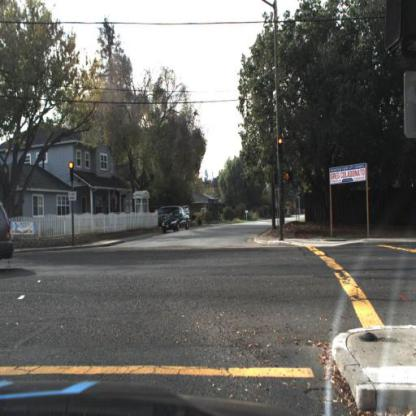car: (2, 204, 14, 272), (163, 209, 192, 233)
trafficLight: (70, 161, 75, 181)
trafficLight-Red: (278, 136, 284, 159)
